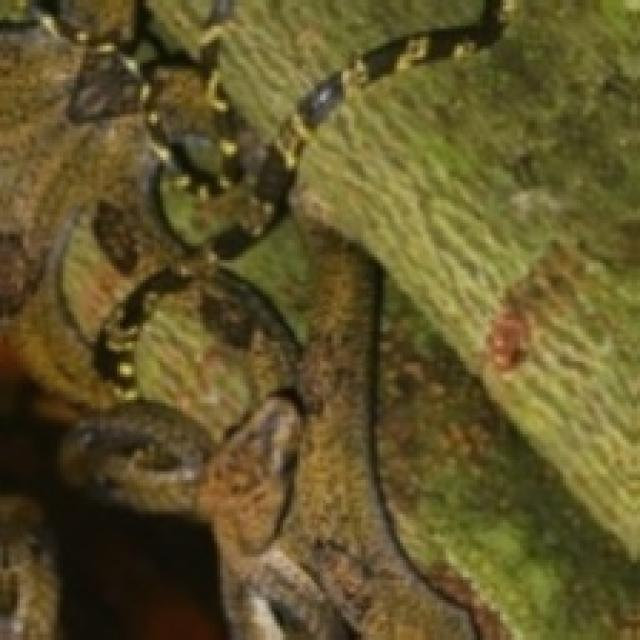dog-toothed cat snake: (0, 0, 509, 637), (0, 486, 69, 637), (60, 563, 106, 631)
